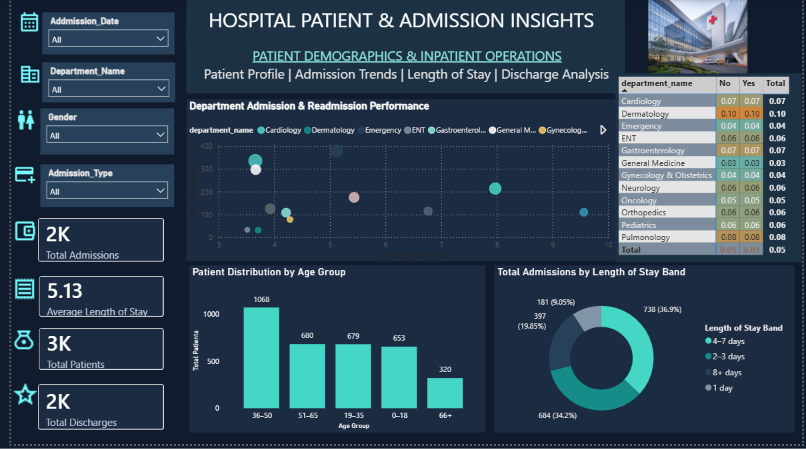

What the dashboard file says about the page in this screenshot:
{"tool":"powerbi","page":{"name":"Patient & Admission Insights.","canvas":[1280,720],"ordinal":3},"visuals":[{"type":"textbox","box":[283.4,47,710.8,105.2],"z":0},{"type":"textbox","box":[282.7,0,710.1,70.7],"z":1000},{"type":"cardVisual","fields":{"Data":["admissions_clean.Total Admissions"]},"box":[25.9,336.8,238,105.2],"z":2000},{"type":"cardVisual","fields":{"Data":["admissions_clean.Average Length of Stay"]},"box":[27.5,430.7,236.4,100.4],"z":3000},{"type":"cardVisual","fields":{"Data":["patients_clean.Total Patients"]},"box":[27.5,514.9,236.4,102],"z":4000},{"type":"cardVisual","fields":{"Data":["admissions_clean.Total Discharges"]},"box":[25.9,605.6,238,108.5],"z":5000},{"type":"image","box":[13,102,35.6,38.9],"z":6000},{"type":"slicer","fields":{"Values":["admissions_clean.admission_date"]},"box":[50.2,21,213.7,68],"z":7000},{"type":"slicer","fields":{"Values":["admissions_clean.admission_type"]},"box":[47,267.2,217,69.6],"z":8000},{"type":"image","box":[0,17.8,58.3,37.2],"z":9000},{"type":"image","box":[0,616.9,45.3,45.3],"z":10000},{"type":"image","box":[0,354.6,43.7,40.5],"z":11000},{"type":"image","box":[0,448.5,43.7,40.5],"z":12000},{"type":"image","box":[0,531.1,40.5,40.5],"z":13000},{"type":"image","box":[0,265.6,42.1,35.6],"z":14000},{"type":"clusteredColumnChart","title":"Patient Distribution by Age Group","fields":{"Category":["patients_clean.Age Group"],"Y":["patients_clean.Total Patients"]},"box":[288.2,430.7,479.3,270.4],"z":15000},{"type":"donutChart","fields":{"Category":["admissions_clean.Length of Stay Band"],"Y":["admissions_clean.Total Admissions"]},"box":[782.1,430.7,485.8,270.4],"z":16000},{"type":"pivotTable","fields":{"Rows":["departments_clean.department_name"],"Columns":["admissions_clean.readmitted_within_30d"],"Values":["admissions_clean.Readmission Rate"]},"box":[978,119.8,301.2,306],"z":17000},{"type":"slicer","fields":{"Values":["departments_clean.department_name"]},"box":[50.2,102,215.4,64.8],"z":18000},{"type":"slicer","fields":{"Values":["doctors_clean.gender"]},"box":[47,176.5,217,74.5],"z":19000},{"type":"scatterChart","title":"Department Admission & Readmission Performance","fields":{"X":["admissions_clean.Average Length of Stay"],"Y":["admissions_clean.Total Admissions"],"Series":["departments_clean.department_name"],"Size":["admissions_clean.Total Readmissions"]},"box":[283.4,161.9,694.6,262.3],"z":20000},{"type":"image","box":[0,176.5,47,37.2],"z":21000},{"type":"image","box":[944,0,335.2,119.8],"z":21001}]}

Visuals, with their boxes in screenshot pixels (x1, y1, x2, y2), scaled from the page's 1280x720 canvas onto the 806x449 screenshot:
textbox: [178,29,626,95]
textbox: [178,0,625,44]
cardVisual - admissions_clean.Total Admissions: [16,210,166,276]
cardVisual - admissions_clean.Average Length of Stay: [17,269,166,331]
cardVisual - patients_clean.Total Patients: [17,321,166,385]
cardVisual - admissions_clean.Total Discharges: [16,378,166,445]
image: [8,64,31,88]
slicer - admissions_clean.admission_date: [32,13,166,56]
slicer - admissions_clean.admission_type: [30,167,166,210]
image: [0,11,37,34]
image: [0,385,29,413]
image: [0,221,28,246]
image: [0,280,28,305]
image: [0,331,26,356]
image: [0,166,27,188]
"Patient Distribution by Age Group" clusteredColumnChart: [181,269,483,437]
donutChart - admissions_clean.Length of Stay Band x admissions_clean.Total Admissions: [492,269,798,437]
pivotTable - departments_clean.department_name x admissions_clean.readmitted_within_30d: [616,75,805,266]
slicer - departments_clean.department_name: [32,64,167,104]
slicer - doctors_clean.gender: [30,110,166,157]
"Department Admission & Readmission Performance" scatterChart: [178,101,616,265]
image: [0,110,30,133]
image: [594,0,805,75]
